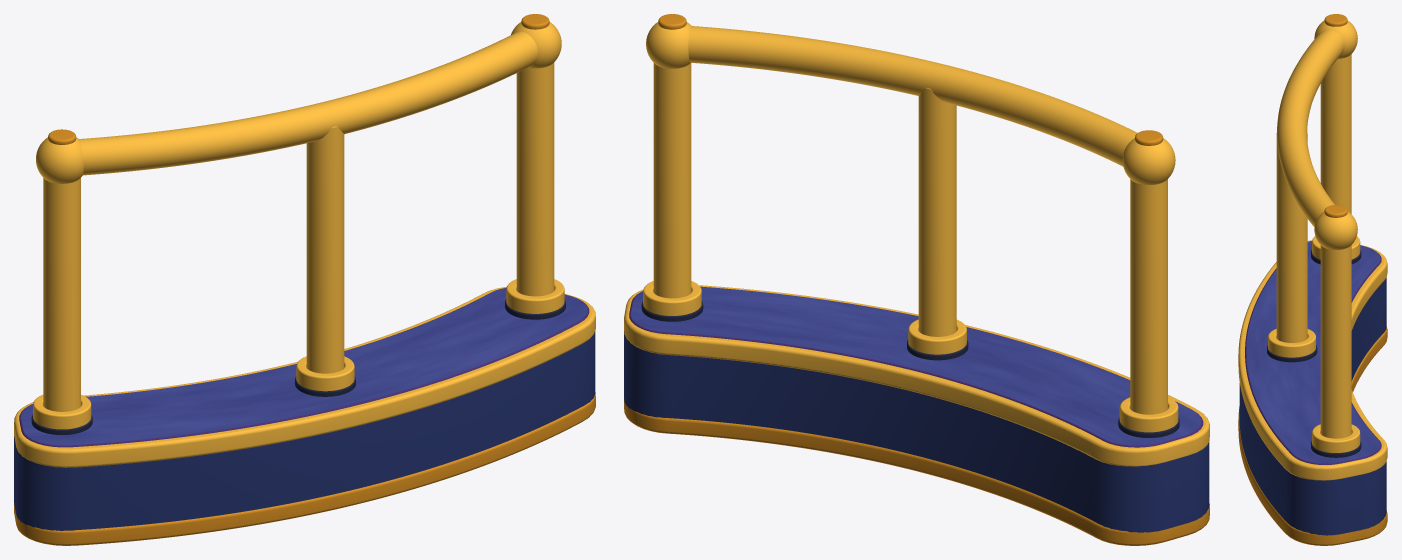
The model's file is StageRailing.glb.
3 renders of one model, left to right at view 1: azimuth 30°, elevation 25°; view 2: azimuth 150°, elevation 25°; view 3: azimuth 270°, elevation 25°, orthographic. The views are drawn at different scales.
Visible parts, largest first — view 1: BlueRoundedBase, BlueTopInset, SmoothCurvedGoldHandrail, UpperGoldTrim, LowerGoldTrim, Post2, Post3, Post1, RoundHandrailEnd1, GoldSocketCollar2, GoldSocketCollar1, GoldSocketCollar3 (+1 smaller); view 2: BlueRoundedBase, BlueTopInset, SmoothCurvedGoldHandrail, UpperGoldTrim, Post2, LowerGoldTrim, Post3, Post1, RoundHandrailEnd1, RoundHandrailEnd3, GoldSocketCollar1, GoldSocketCollar2 (+1 smaller); view 3: BlueTopInset, BlueRoundedBase, SmoothCurvedGoldHandrail, Post3, Post2, UpperGoldTrim, Post1, LowerGoldTrim, RoundHandrailEnd3, GoldSocketCollar3, GoldSocketCollar2, RoundHandrailEnd1 (+5 smaller).
Boxes of the visible parts, left/top/right/bottom form: BlueRoundedBase: left=14, top=331, right=595, bottom=530; BlueTopInset: left=19, top=287, right=589, bottom=447; SmoothCurvedGoldHandrail: left=79, top=31, right=537, bottom=175; UpperGoldTrim: left=14, top=286, right=595, bottom=467; LowerGoldTrim: left=14, top=392, right=595, bottom=545; Post2: left=306, top=126, right=344, bottom=373; Post3: left=516, top=62, right=554, bottom=296; Post1: left=43, top=178, right=80, bottom=411; RoundHandrailEnd1: left=36, top=137, right=83, bottom=183; GoldSocketCollar2: left=296, top=356, right=354, bottom=391; GoldSocketCollar1: left=33, top=394, right=91, bottom=429; GoldSocketCollar3: left=506, top=279, right=564, bottom=313; BlueRoundedBase: left=624, top=331, right=1209, bottom=532; BlueTopInset: left=629, top=286, right=1203, bottom=447; SmoothCurvedGoldHandrail: left=688, top=26, right=1137, bottom=166; UpperGoldTrim: left=624, top=285, right=1209, bottom=466; Post2: left=918, top=87, right=956, bottom=336; LowerGoldTrim: left=624, top=399, right=1209, bottom=545; Post3: left=653, top=63, right=691, bottom=298; Post1: left=1130, top=179, right=1167, bottom=414; RoundHandrailEnd1: left=1122, top=138, right=1175, bottom=184; RoundHandrailEnd3: left=646, top=22, right=691, bottom=68; GoldSocketCollar1: left=1119, top=397, right=1178, bottom=432; GoldSocketCollar2: left=908, top=319, right=966, bottom=354; BlueTopInset: left=1245, top=241, right=1381, bottom=464; BlueRoundedBase: left=1239, top=278, right=1386, bottom=535; SmoothCurvedGoldHandrail: left=1277, top=30, right=1344, bottom=227; Post3: left=1320, top=245, right=1351, bottom=438; Post2: left=1276, top=133, right=1307, bottom=342; UpperGoldTrim: left=1238, top=240, right=1387, bottom=480; Post1: left=1320, top=54, right=1351, bottom=213; LowerGoldTrim: left=1238, top=327, right=1387, bottom=545; RoundHandrailEnd3: left=1314, top=211, right=1357, bottom=249; GoldSocketCollar3: left=1312, top=424, right=1360, bottom=452; GoldSocketCollar2: left=1268, top=329, right=1315, bottom=357; RoundHandrailEnd1: left=1314, top=20, right=1357, bottom=58.
Bounding box in the file's own units: 1.39 × 0.918 × 0.3838.
7 materials, 7 textured.
